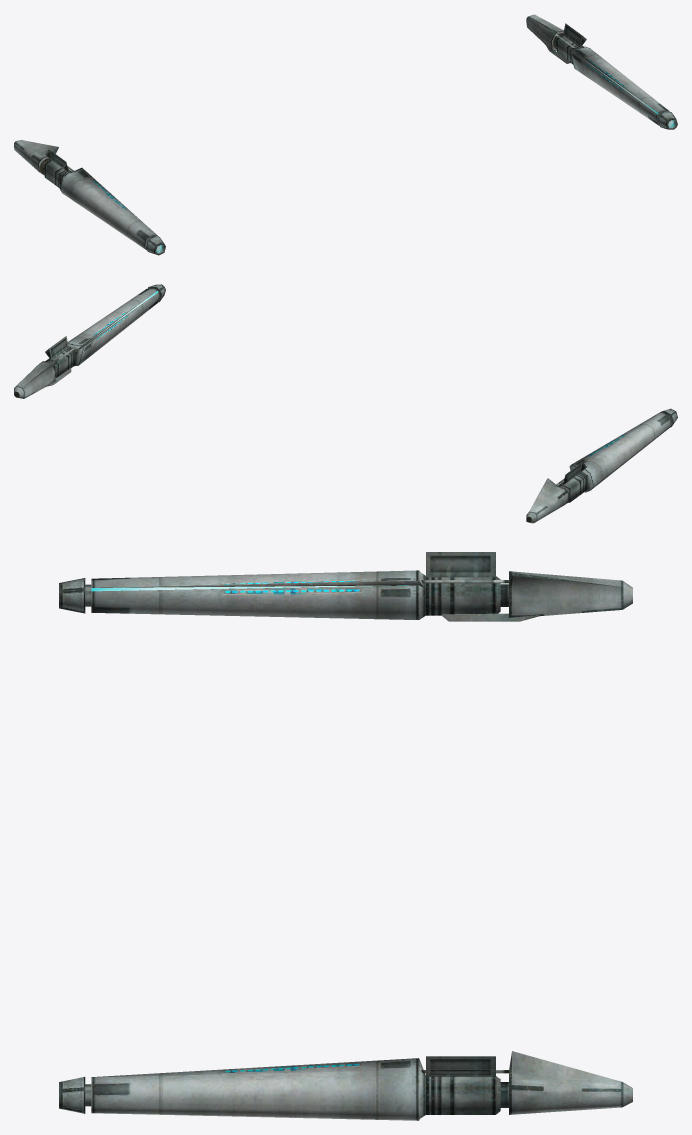
Rendered from hutt_fighter_medium_weapon1_s02_l1.fbx.
3 renders of one model, top to bottom at view 1: azimuth 30°, elevation 25°; view 2: azimuth 150°, elevation 25°; view 3: azimuth 270°, elevation 25°, orthographic. The views are drawn at different scales.
Parts seen in each view (by area): view 1: mesh_node; view 2: mesh_node; view 3: mesh_node.
Part boxes in pixels (x1,y1,x2,y2): mesh_node: (14,14,677,255); mesh_node: (14,284,677,523); mesh_node: (59,552,632,1120).
Bounding box in the file's own units: 13.92 × 0.7958 × 6.48.
1 material, 1 textured.
